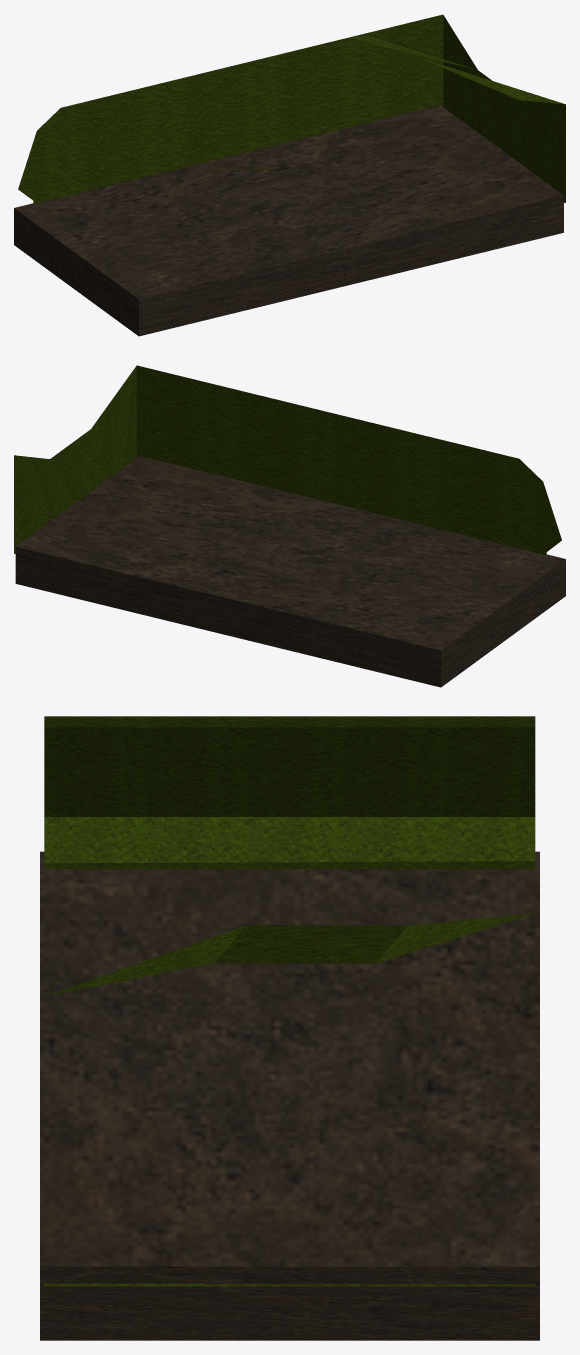
Rendered from ground2.fbx.
3 views of the same model, one above another, from view 1: azimuth 30°, elevation 25°; view 2: azimuth 150°, elevation 25°; view 3: azimuth 270°, elevation 25° (orthographic). The views are drawn at different scales.
Visible parts, largest first — view 1: Cube.001, Cube; view 2: Cube.001, Cube; view 3: Cube.001, Cube.
Part boxes in pixels (<box>): Cube.001: <box>14,105,563,336</box>; Cube: <box>18,14,565,245</box>; Cube.001: <box>15,456,565,687</box>; Cube: <box>14,365,561,633</box>; Cube.001: <box>40,851,539,1340</box>; Cube: <box>44,716,535,1286</box>.
Size of the model in its own units: 1208 by 435 by 611.
